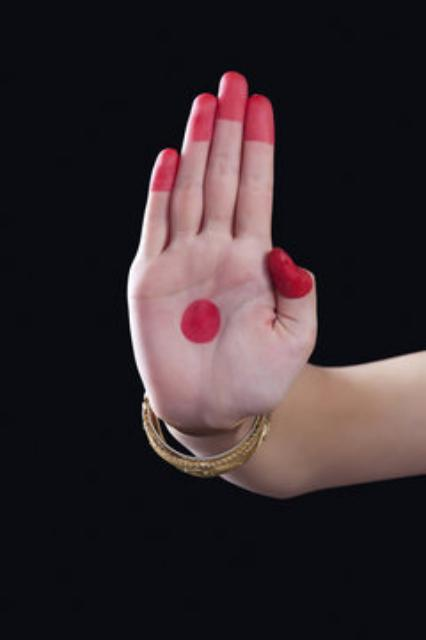pataka: (128, 75, 318, 460)
